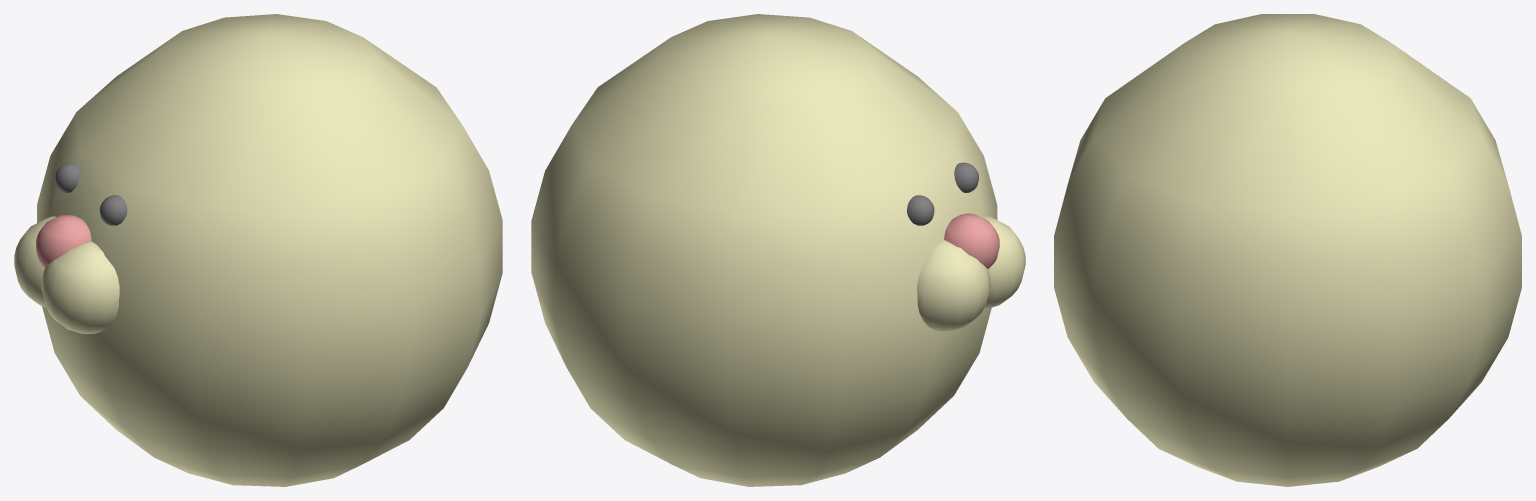
The model's file is AnimalBall.fbx.
3 renders of one model, left to right at view 1: azimuth 30°, elevation 25°; view 2: azimuth 150°, elevation 25°; view 3: azimuth 270°, elevation 25°, orthographic.
Parts seen in each view (by area): view 1: pSphere1, polySurface3, polySurface5, polySurface4, polySurface2, polySurface1; view 2: pSphere1, polySurface4, polySurface3, polySurface5, polySurface1, polySurface2; view 3: pSphere1.
Part boxes in pixels (bbox=[...]): pSphere1: bbox=[37, 14, 502, 486]; polySurface3: bbox=[41, 241, 119, 333]; polySurface5: bbox=[36, 215, 91, 267]; polySurface4: bbox=[14, 216, 56, 306]; polySurface2: bbox=[99, 195, 127, 225]; polySurface1: bbox=[55, 162, 79, 192]; pSphere1: bbox=[531, 14, 997, 486]; polySurface4: bbox=[917, 240, 990, 331]; polySurface3: bbox=[979, 215, 1025, 309]; polySurface5: bbox=[944, 213, 999, 268]; polySurface1: bbox=[907, 195, 934, 225]; polySurface2: bbox=[954, 162, 978, 192]; pSphere1: bbox=[1054, 14, 1521, 486].
Size of the model in its own units: 32.09 by 30 by 29.56.
